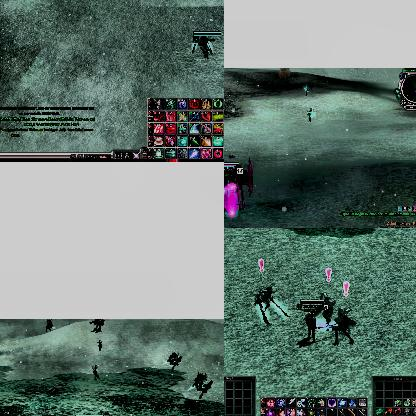caliana: (252, 284, 292, 324), (332, 307, 356, 345), (323, 293, 335, 323), (90, 365, 102, 381), (306, 108, 316, 122), (302, 84, 312, 96), (96, 340, 102, 352)
